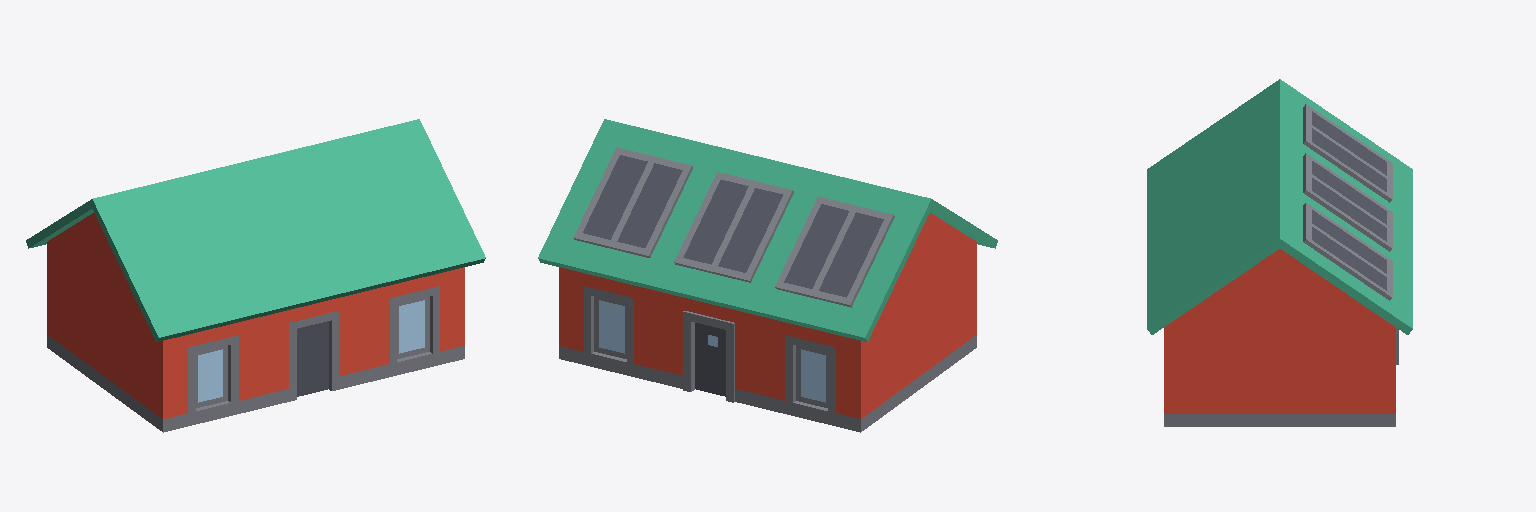
Rendered from house_type01.obj.
3 renders of one model, left to right at view 1: azimuth 30°, elevation 25°; view 2: azimuth 150°, elevation 25°; view 3: azimuth 270°, elevation 25°, orthographic.
Parts seen in each view (by area): view 1: house_type01; view 2: house_type01; view 3: house_type01.
Part boxes in pixels (left/top/right/bottom): house_type01: left=26, top=119, right=485, bottom=432; house_type01: left=538, top=119, right=997, bottom=432; house_type01: left=1147, top=79, right=1412, bottom=426.
Size of the model in its own units: 1.3 by 0.7375 by 0.916.